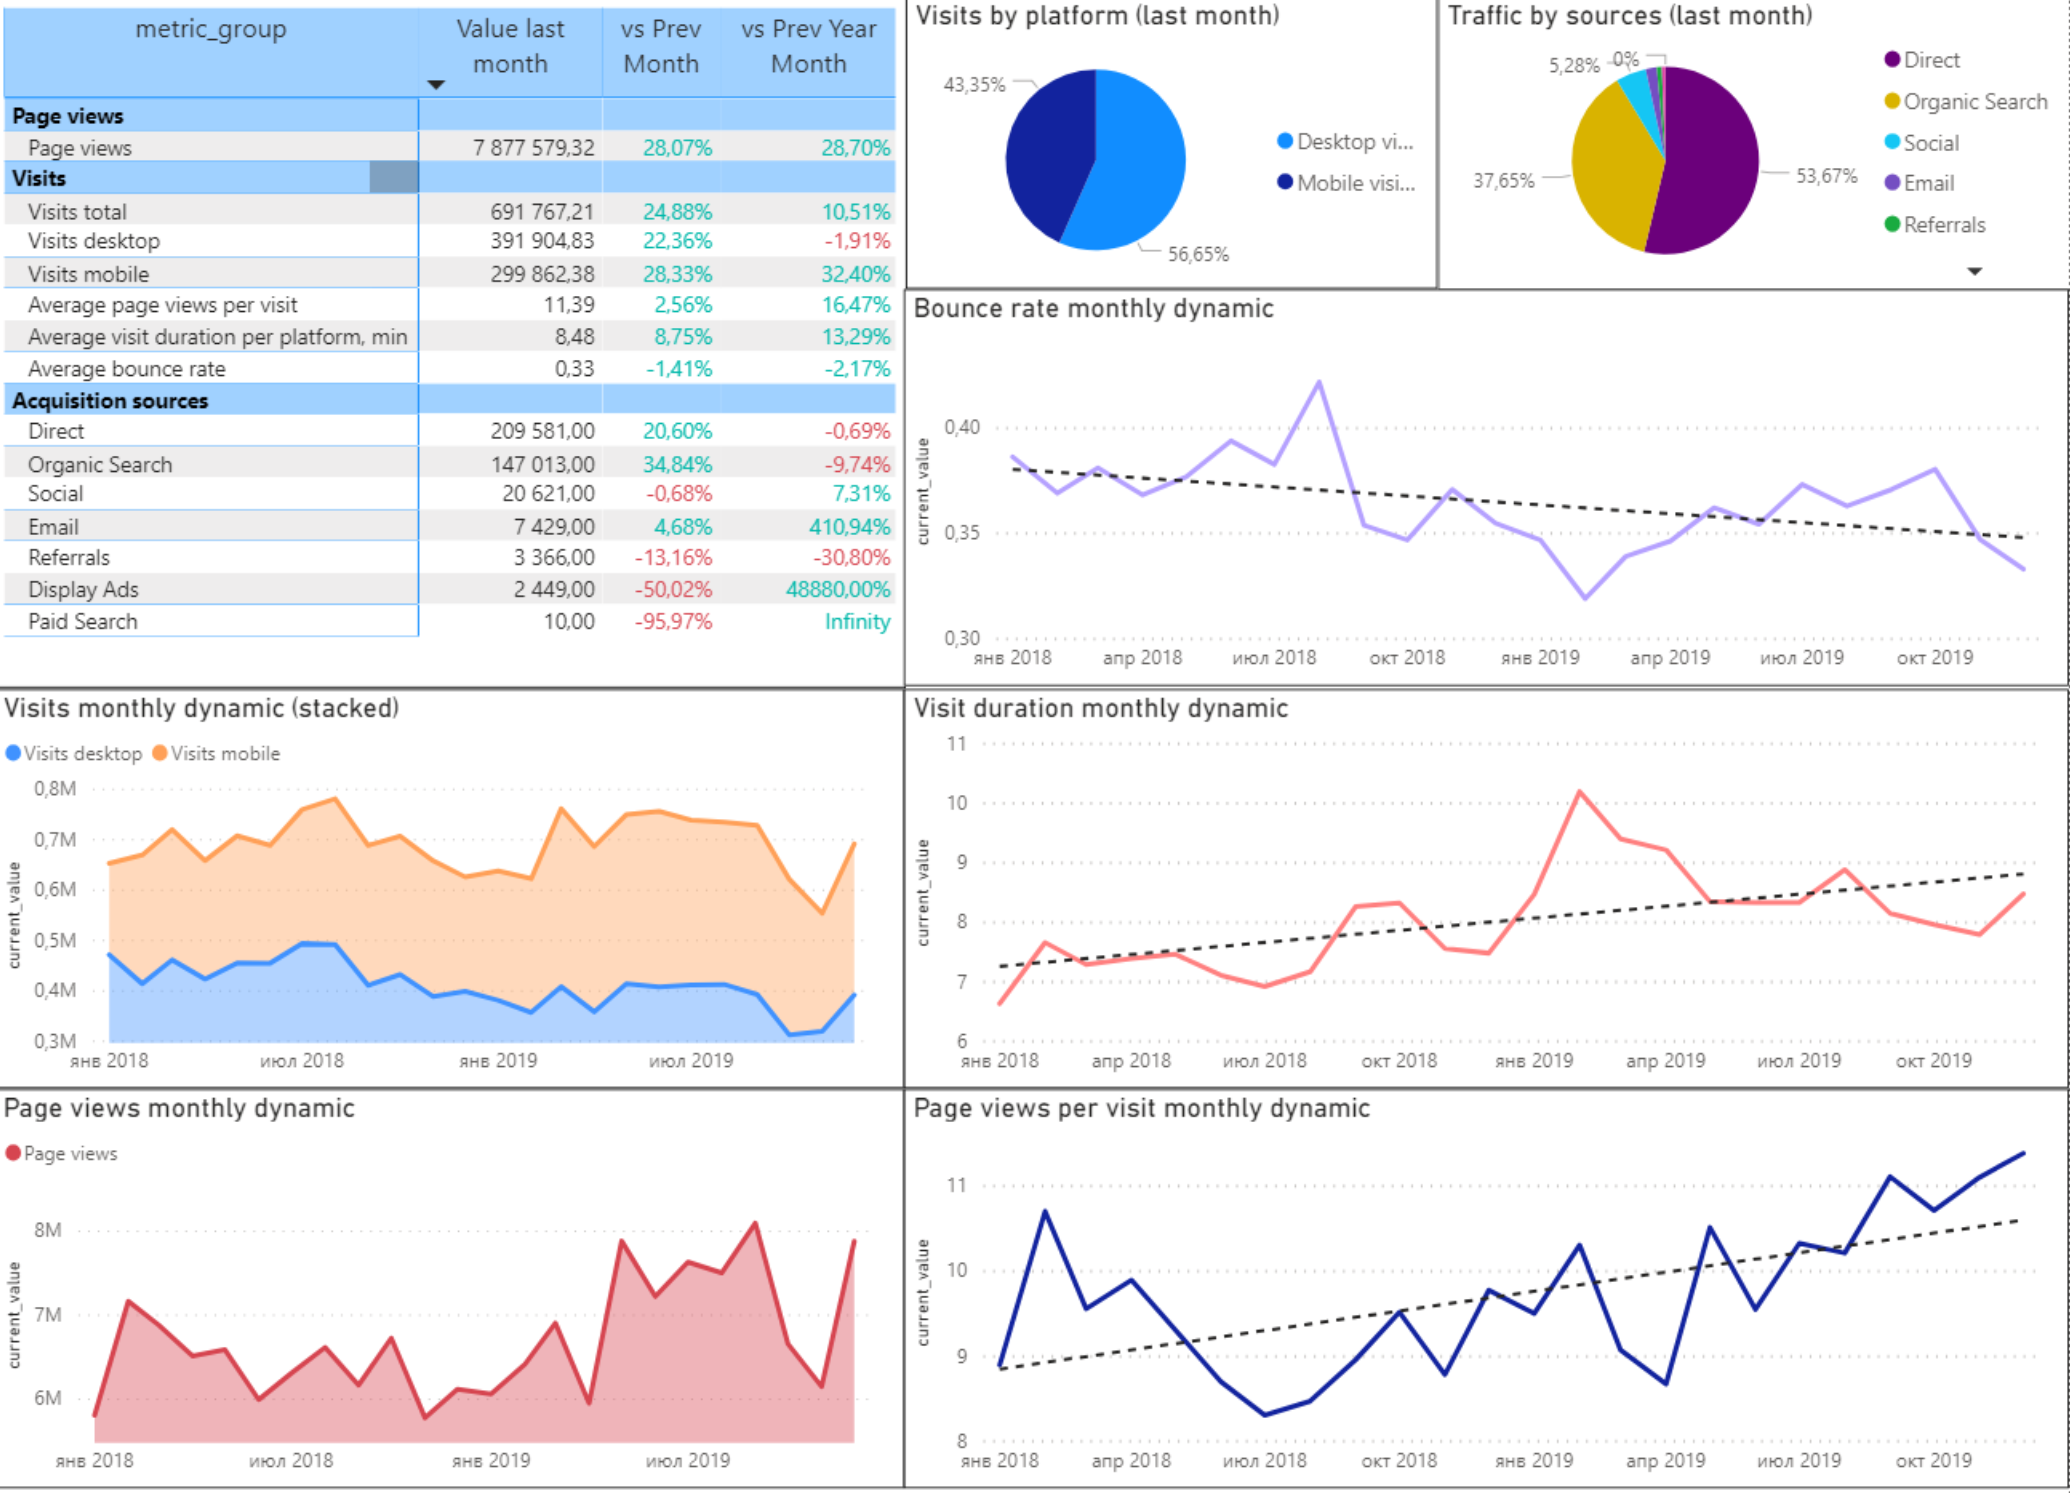

The page's visual inventory and layout, read from the dashboard file:
{"tool":"powerbi","page":{"name":"Main","canvas":[1280,925],"ordinal":0},"visuals":[{"type":"pivotTable","fields":{"Rows":["tbl_metric_groups_orders.metric_group","tbl_metric_orders.metric_name"],"Values":["Sum(metrics_aggr.current_value)","metrics_aggr.metric_value_uplift_prev_month","metrics_aggr.metric_value_uplift_prev_year_month"]},"box":[0,0,562,426],"z":0},{"type":"stackedAreaChart","title":"Visits monthly dynamic (stacked)","fields":{"Category":["metrics_aggr.date_rounded"],"Series":["metrics_aggr.metric_name"],"Y":["Sum(metrics_aggr.current_value)"]},"box":[0,427.3,561.3,246.7],"z":1000},{"type":"HierarchySlicer1458836712039","fields":{"Fields":["metrics_aggr.date_rounded.Variation.Date Hierarchy.Year","metrics_aggr.date_rounded.Variation.Date Hierarchy.Month"]},"box":[1006.4,0,273.7,167],"z":2000},{"type":"pieChart","title":"Visits by platform (last month)","fields":{"Y":["Sum(total_wide.desktop_Visits)","Sum(total_wide.mobile_visits_exact)"]},"box":[562,0,328,180],"z":3000},{"type":"pieChart","title":"Traffic by sources (last month)","fields":{"Category":["metrics_aggr.metric_name"],"Y":["Sum(metrics_aggr.current_value)"]},"box":[889.9,0,390.2,181.1],"z":4000},{"type":"lineChart","title":"Bounce rate monthly dynamic","fields":{"Category":["metrics_aggr.date_rounded"],"Series":["metrics_aggr.metric_name"],"Y":["Sum(metrics_aggr.current_value)"]},"box":[561.3,180.6,718.7,244.7],"z":5000},{"type":"lineChart","title":"Visit duration monthly dynamic","fields":{"Category":["metrics_aggr.date_rounded"],"Series":["metrics_aggr.metric_name"],"Y":["Sum(metrics_aggr.current_value)"]},"box":[561.3,427.3,718.7,246.7],"z":6000},{"type":"stackedAreaChart","title":"Page views monthly dynamic","fields":{"Category":["metrics_aggr.date_rounded"],"Series":["metrics_aggr.metric_name"],"Y":["Sum(metrics_aggr.current_value)"]},"box":[0,674,561.3,246.7],"z":7000},{"type":"lineChart","title":"Page views per visit monthly dynamic","fields":{"Category":["metrics_aggr.date_rounded"],"Series":["metrics_aggr.metric_name"],"Y":["Sum(metrics_aggr.current_value)"]},"box":[561.3,674,718.7,246.7],"z":8000}]}

Visuals, with their boxes in screenshot pixels (x1, y1, x2, y2), scaled from the page's 1280x925 canvas onto the 2070x1493 screenshot:
pivotTable - tbl_metric_groups_orders.metric_group x tbl_metric_orders.metric_name: 0:0:909:688
"Visits monthly dynamic (stacked)" stackedAreaChart: 0:690:908:1088
HierarchySlicer1458836712039 - metrics_aggr.date_rounded.Variation.Date Hierarchy.Year x metrics_aggr.date_rounded.Variation.Date Hierarchy.Month: 1628:0:2069:270
"Visits by platform (last month)" pieChart: 909:0:1439:291
"Traffic by sources (last month)" pieChart: 1439:0:2069:292
"Bounce rate monthly dynamic" lineChart: 908:291:2069:686
"Visit duration monthly dynamic" lineChart: 908:690:2069:1088
"Page views monthly dynamic" stackedAreaChart: 0:1088:908:1486
"Page views per visit monthly dynamic" lineChart: 908:1088:2069:1486
